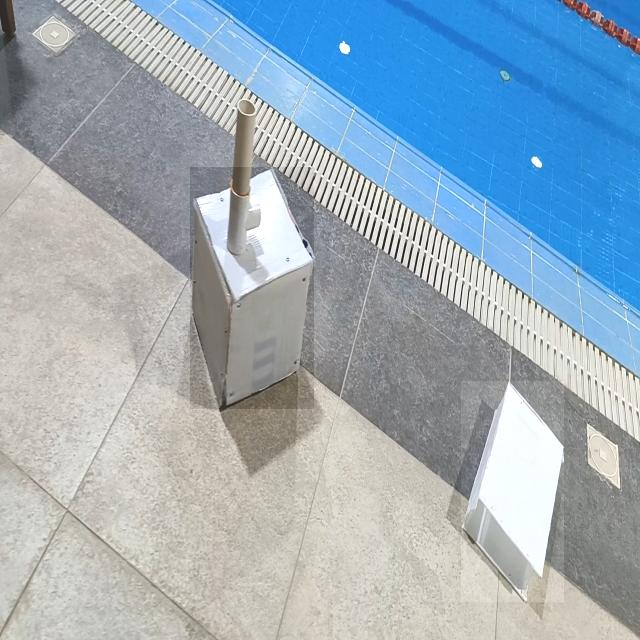Cube: (190, 168, 314, 410)
Cuboid: (461, 381, 564, 602)
